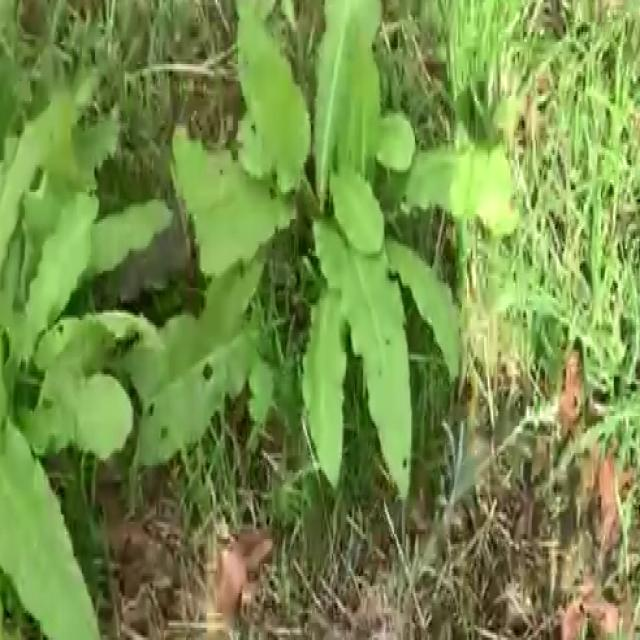organic waste: (168, 0, 515, 512), (0, 54, 191, 640)
